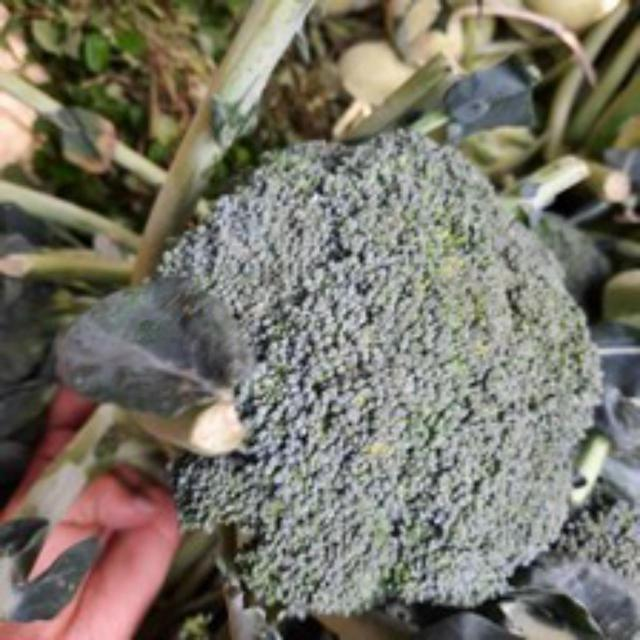broccoli: (123, 131, 617, 637)
